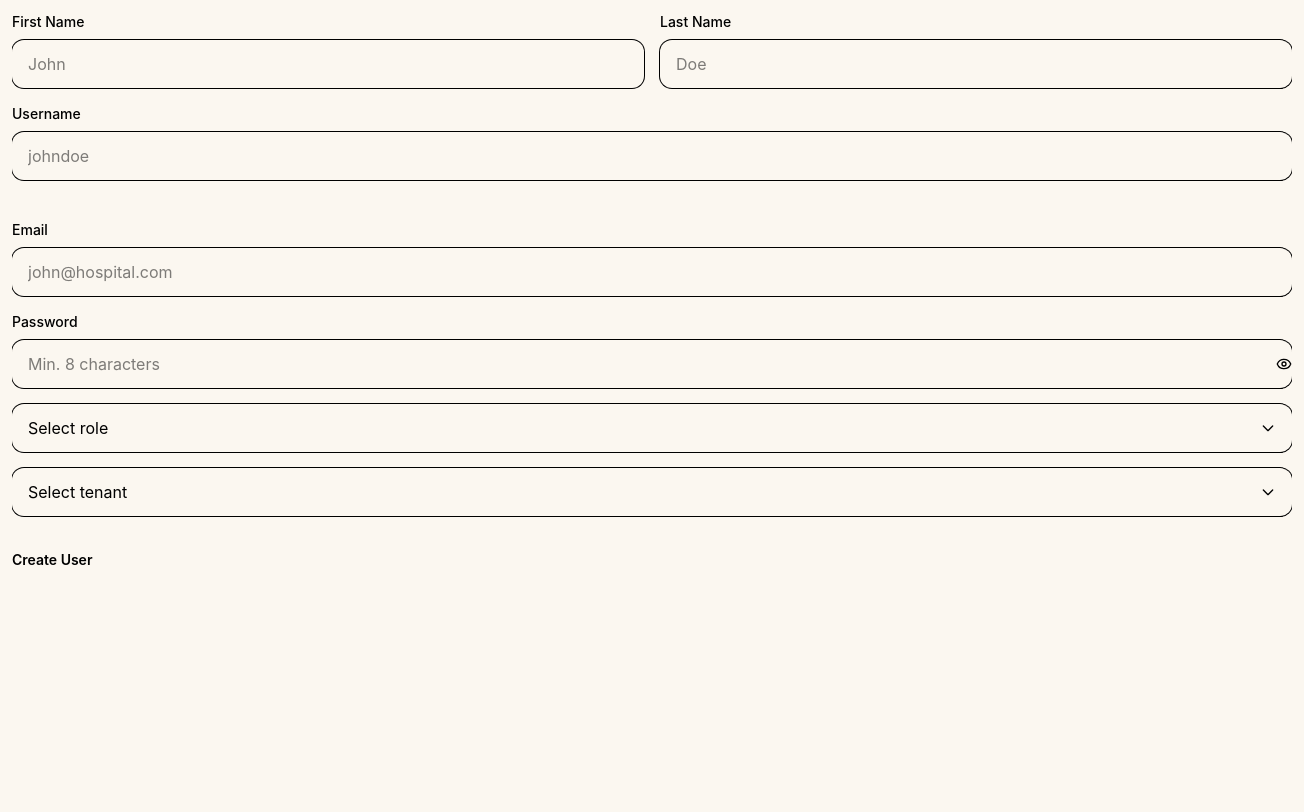
CreateUserForm › reports the username check {"checking":false,"available":true} as Username is available
Type "alan" into the field labelled "Username".
click(652, 156); type("alan")  # box [12,132,1292,180]
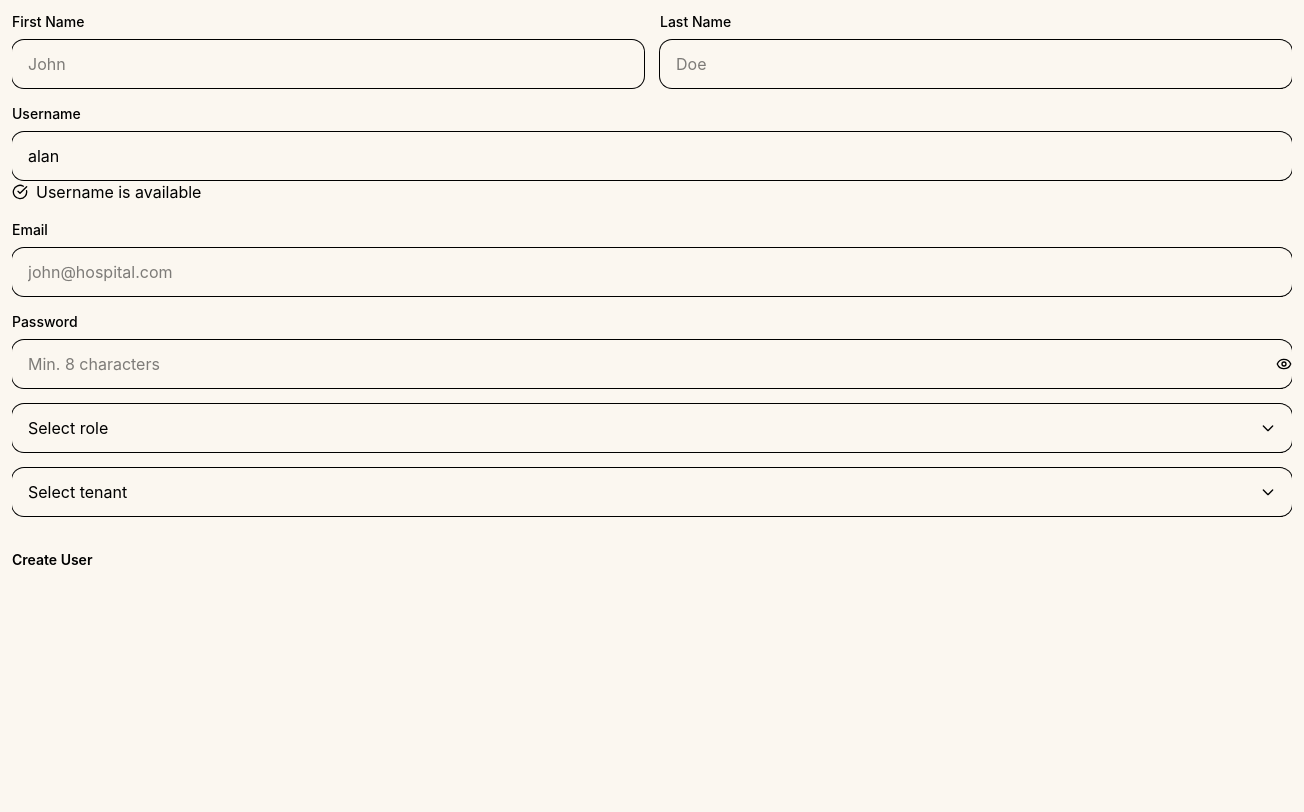
Expected: the text "Username is available" is shown, [36,180,201,204]
